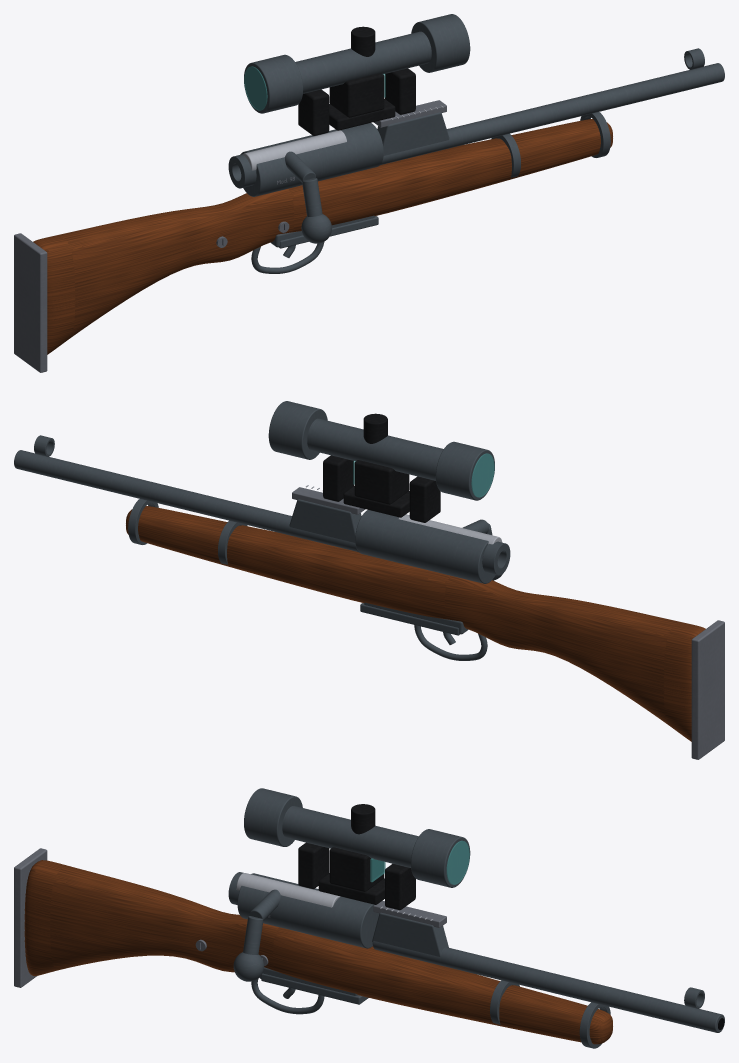
File: kar98k.glb
3 renders of one model, top to bottom at view 1: azimuth 30°, elevation 25°; view 2: azimuth 150°, elevation 25°; view 3: azimuth 330°, elevation 25°, orthographic.
Visible parts, largest first — view 1: Contoured walnut full stock, Barrel.001, Receiver, Steel buttplate, optic_scope_tube.002, optic_scope_bell.004, optic_scope_bell.005, Tangent sight base, optic_red_body.002, Bolt, optic_scope_mount.004, optic_scope_mount.005 (+9 smaller); view 2: Contoured walnut full stock, Barrel.001, Receiver, Steel buttplate, optic_scope_tube.002, optic_scope_bell.004, optic_scope_bell.005, Tangent sight base, optic_red_body.002, optic_scope_mount.004, optic_scope_mount.005, optic_red_mount.002 (+7 smaller); view 3: Contoured walnut full stock, Barrel.001, Receiver, optic_scope_tube.002, optic_scope_bell.005, optic_scope_bell.004, Tangent sight base, optic_red_body.002, Steel buttplate, Bolt, optic_scope_mount.004, optic_scope_mount.005 (+11 smaller).
Part boxes in pixels (x1,y1,x2,y2): Contoured walnut full stock: [33, 119, 612, 354]; Barrel.001: [380, 63, 724, 164]; Receiver: [240, 123, 383, 196]; Steel buttplate: [14, 233, 47, 372]; optic_scope_tube.002: [295, 31, 431, 93]; optic_scope_bell.004: [244, 54, 303, 113]; optic_scope_bell.005: [411, 14, 470, 72]; Tangent sight base: [377, 112, 449, 155]; optic_red_body.002: [329, 73, 384, 117]; Bolt: [243, 130, 346, 170]; optic_scope_mount.004: [298, 89, 329, 135]; optic_scope_mount.005: [385, 68, 415, 114]; Contoured walnut full stock: [126, 506, 705, 741]; Barrel.001: [14, 450, 358, 551]; Receiver: [355, 510, 495, 583]; Steel buttplate: [691, 620, 724, 759]; optic_scope_tube.002: [307, 418, 443, 480]; optic_scope_bell.004: [435, 441, 494, 500]; optic_scope_bell.005: [268, 401, 327, 459]; Tangent sight base: [289, 499, 361, 542]; optic_red_body.002: [354, 460, 409, 504]; optic_scope_mount.004: [409, 476, 440, 522]; optic_scope_mount.005: [323, 455, 353, 501]; optic_red_mount.002: [343, 486, 409, 517]; Contoured walnut full stock: [24, 860, 612, 1044]; Barrel.001: [372, 941, 724, 1032]; Receiver: [237, 873, 379, 948]; optic_scope_tube.002: [282, 806, 418, 867]; optic_scope_bell.005: [411, 829, 470, 887]; optic_scope_bell.004: [244, 788, 302, 846]; Tangent sight base: [372, 912, 448, 956]; optic_red_body.002: [329, 847, 384, 891]; Steel buttplate: [14, 848, 47, 987]; Bolt: [236, 873, 340, 907]; optic_scope_mount.004: [298, 842, 329, 888]; optic_scope_mount.005: [385, 863, 415, 910].
Size of the model in its own units: 2.25 by 0.773 by 0.3078.
7 materials, 6 textured.
